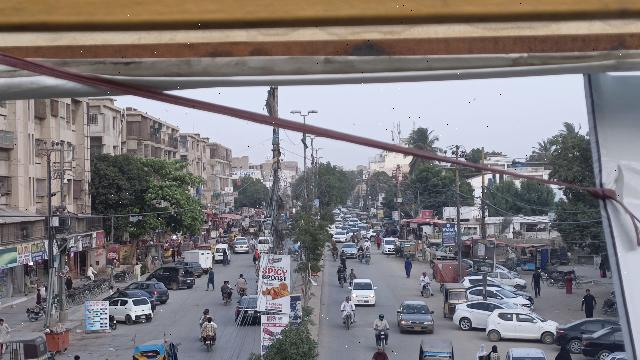Bike: (374, 328, 388, 352), (342, 310, 357, 331), (201, 335, 215, 356), (420, 281, 434, 299), (336, 271, 348, 288), (109, 314, 118, 331), (221, 292, 231, 307), (236, 288, 247, 299)
Car: (485, 309, 556, 341), (551, 316, 611, 352), (453, 300, 508, 331), (576, 323, 622, 357), (395, 299, 436, 337), (107, 296, 154, 326), (145, 265, 197, 290), (127, 279, 170, 305), (349, 278, 377, 307), (234, 295, 259, 324), (110, 288, 158, 302)
Person: (579, 287, 598, 317), (529, 269, 545, 298), (371, 310, 390, 331), (201, 315, 218, 337), (205, 266, 217, 293), (339, 292, 356, 311), (401, 256, 414, 280), (553, 343, 571, 360), (235, 272, 249, 291), (474, 342, 487, 360), (418, 268, 430, 286), (489, 343, 501, 360), (335, 262, 349, 275), (220, 281, 231, 293)
Rickshaw: (130, 337, 178, 360), (441, 279, 467, 318), (416, 337, 456, 360)
